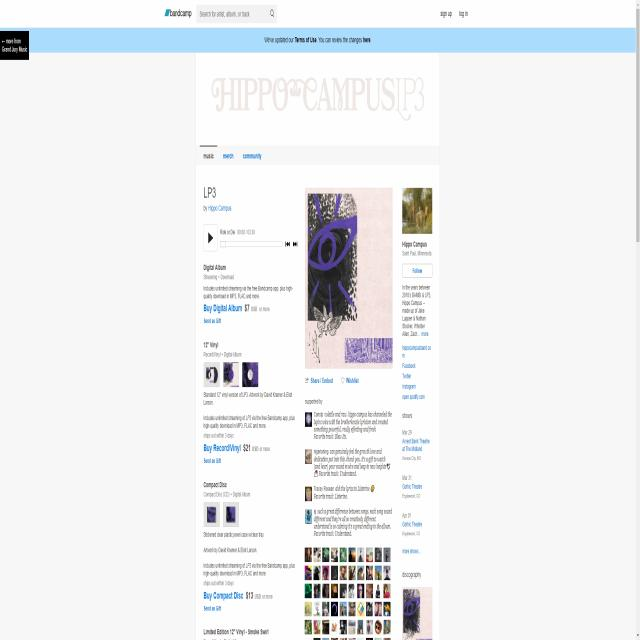menu-bar: (438, 5, 472, 20)
search: (195, 2, 277, 24)
side-panel: (398, 182, 436, 640)
tab-bar: (200, 144, 268, 166)
